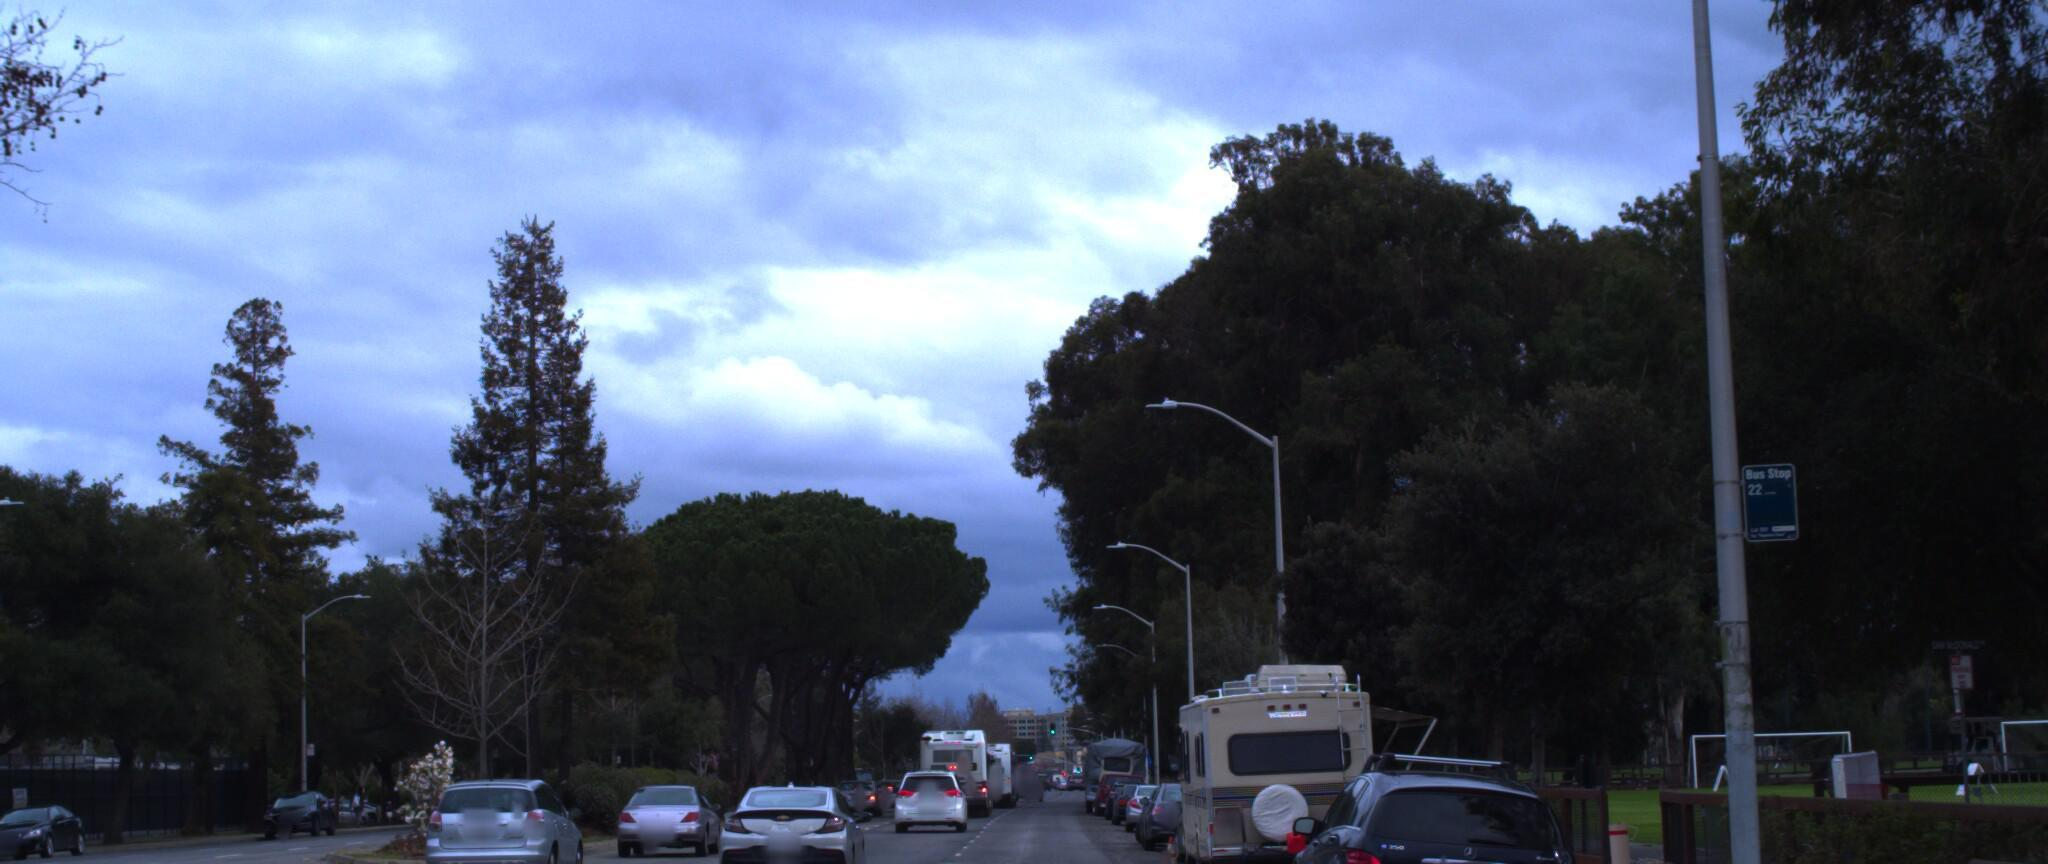car: (1268, 727, 1610, 864), (406, 761, 593, 864), (707, 773, 870, 864), (600, 757, 722, 850), (0, 795, 94, 856), (899, 762, 973, 826)
other_vehicle: (1165, 637, 1394, 864)
